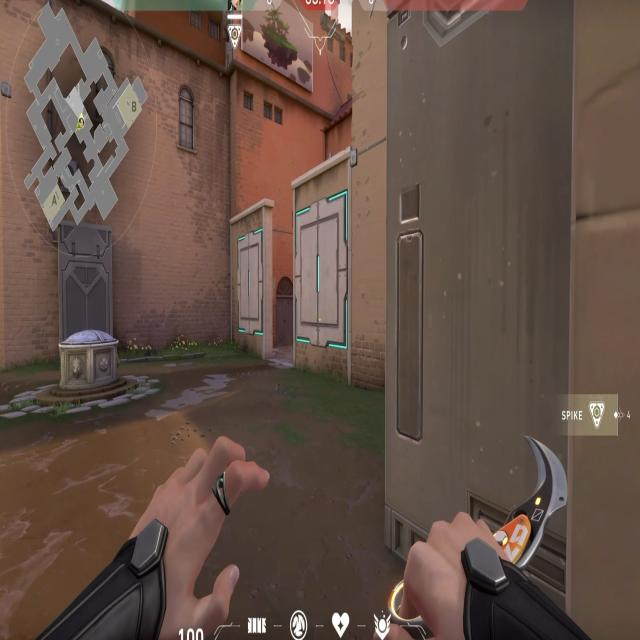Mid_Wall: (293, 194, 359, 360), (230, 218, 276, 353)
